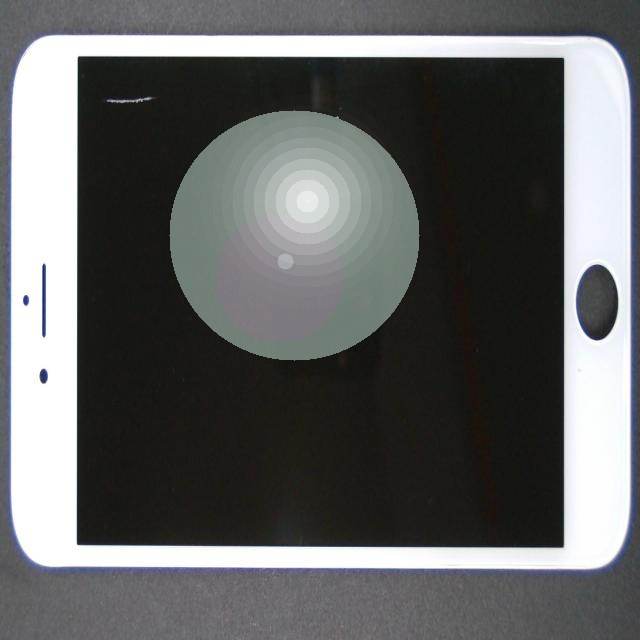scratch: (18, 52, 173, 182)
